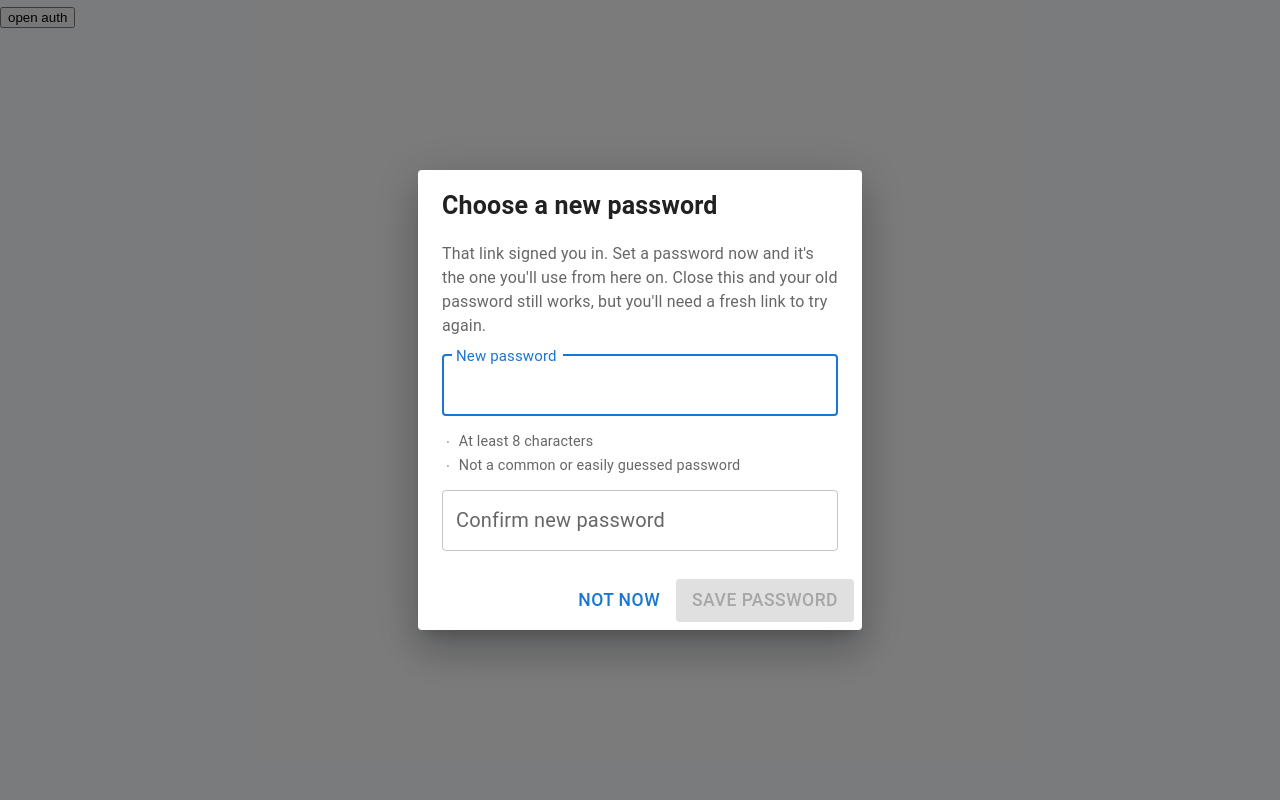
Test case: choosing the new password › holds a new password to the policy before the round trip
Expected: the heading "Choose a new password" is shown, x1=442 y1=191 x2=718 y2=220
Type "abc" into the password field labelled "New password" at (640, 385), box x1=442 y1=354 x2=838 y2=416
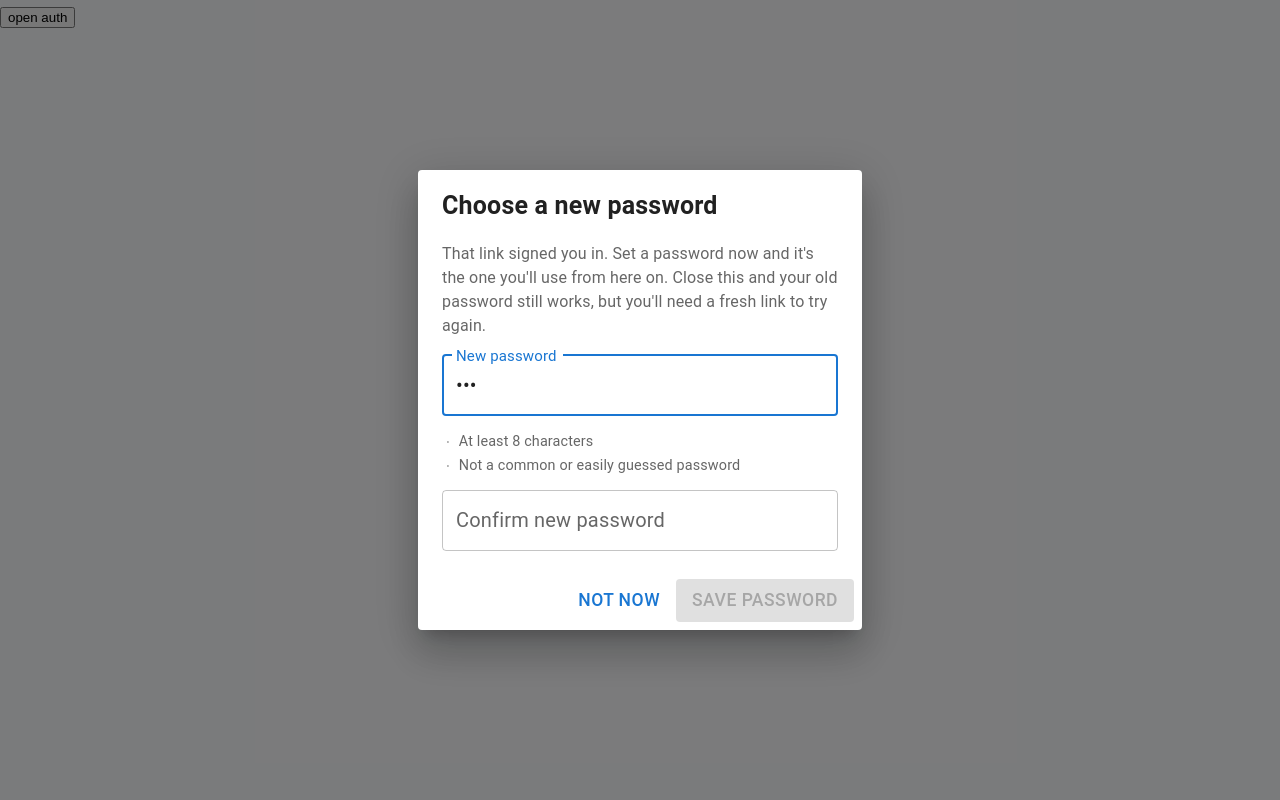
Type "abc" into the password field labelled "Confirm new password" at (640, 520), box x1=442 y1=490 x2=838 y2=551
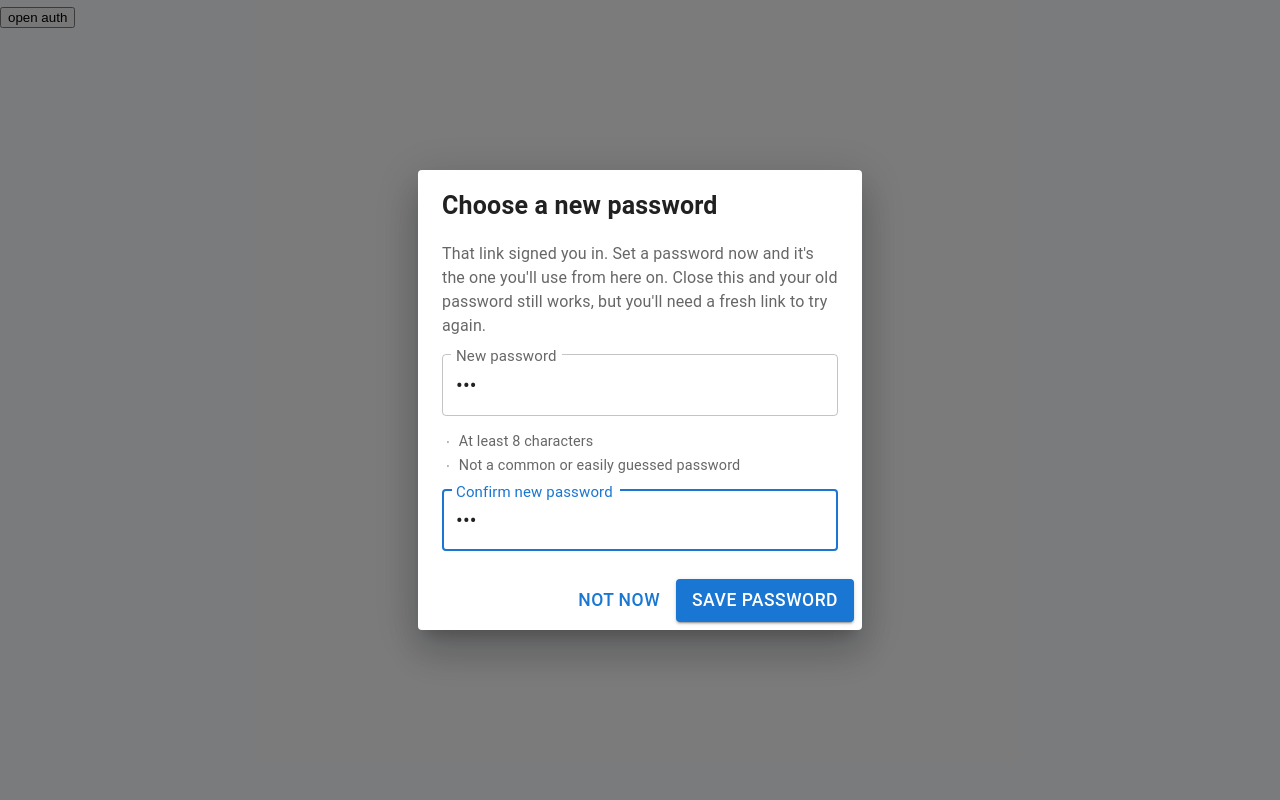
Click the button "Save password" at (765, 601), box x1=676 y1=579 x2=854 y2=622
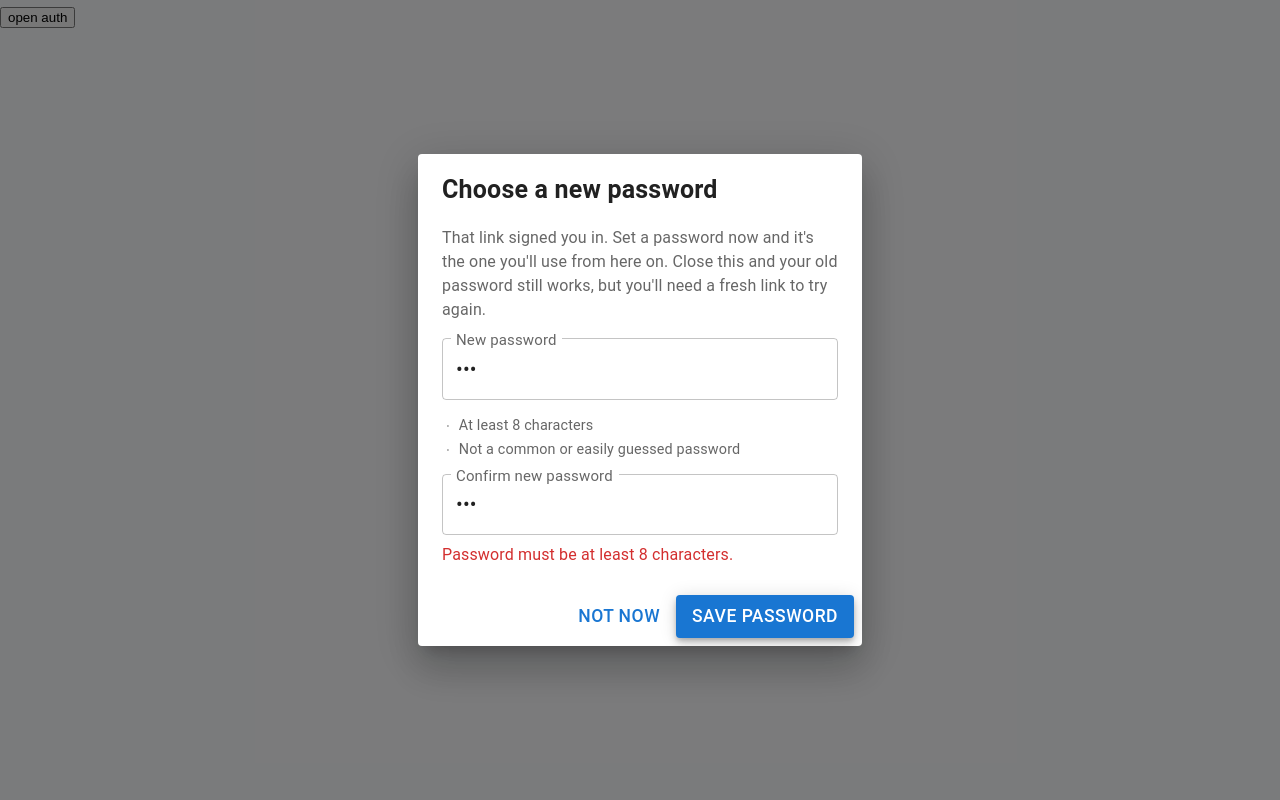
Expected: the text "Password must be at least 8 characters." is shown, x1=442 y1=543 x2=733 y2=567
